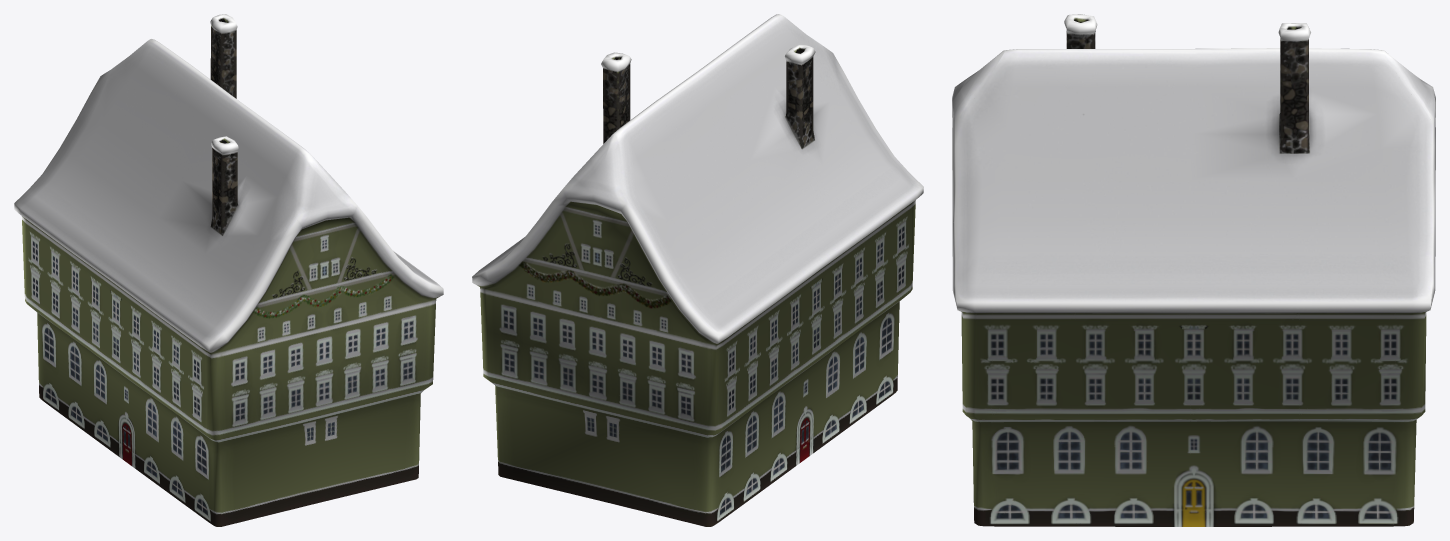
The model's file is House-1.FBX.
3 renders of one model, left to right at view 1: azimuth 30°, elevation 25°; view 2: azimuth 150°, elevation 25°; view 3: azimuth 270°, elevation 25°, orthographic. The views are drawn at different scales.
Visible parts, largest first — view 1: House-1; view 2: House-1; view 3: House-1.
Part boxes in pixels (x1,y1,x2,y2): House-1: (14,14,443,526); House-1: (472,14,923,526); House-1: (952,14,1435,526).
Bounding box in the file's own units: 30.34 × 46.42 × 44.01.
Materials: 1 (1 with a texture image).
